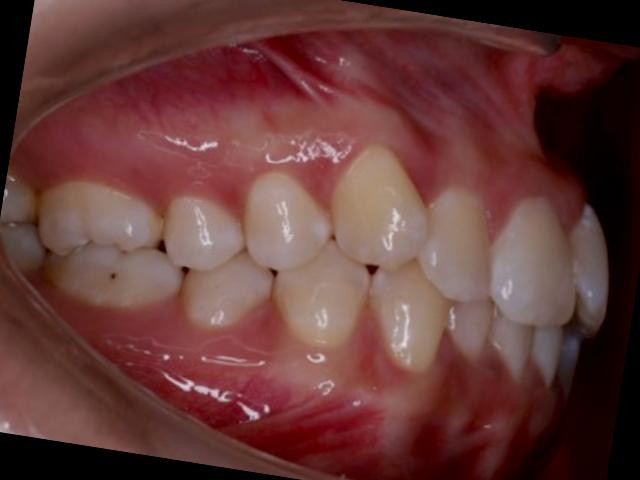canine class II 1/4: (259, 123, 476, 390)
molar class I: (23, 152, 198, 326)
